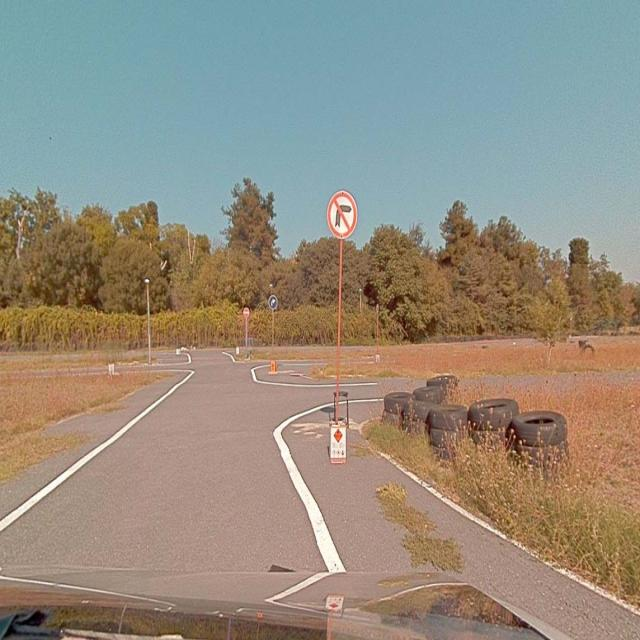girisyok: (243, 306, 250, 317)
sag: (270, 296, 278, 308)
sagadonulmez: (329, 191, 356, 237)
